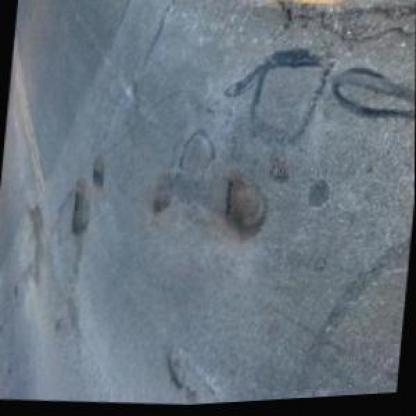pothole: (277, 0, 414, 55), (218, 170, 270, 240), (65, 178, 93, 236), (159, 348, 193, 391), (88, 157, 108, 190)
